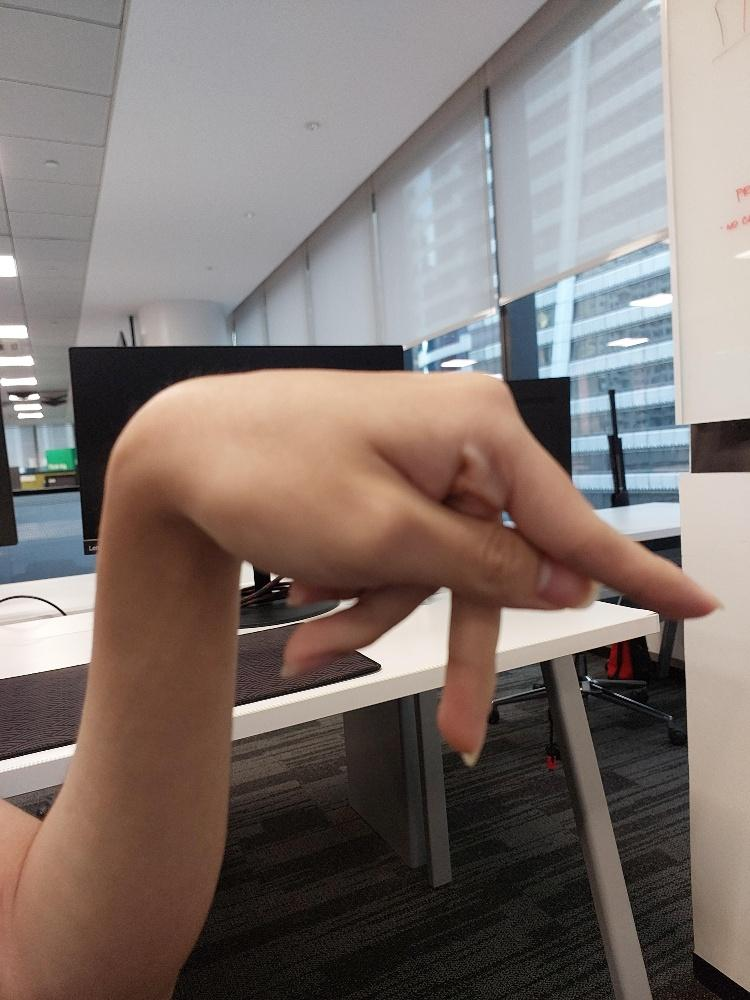p: (109, 364, 721, 759)
